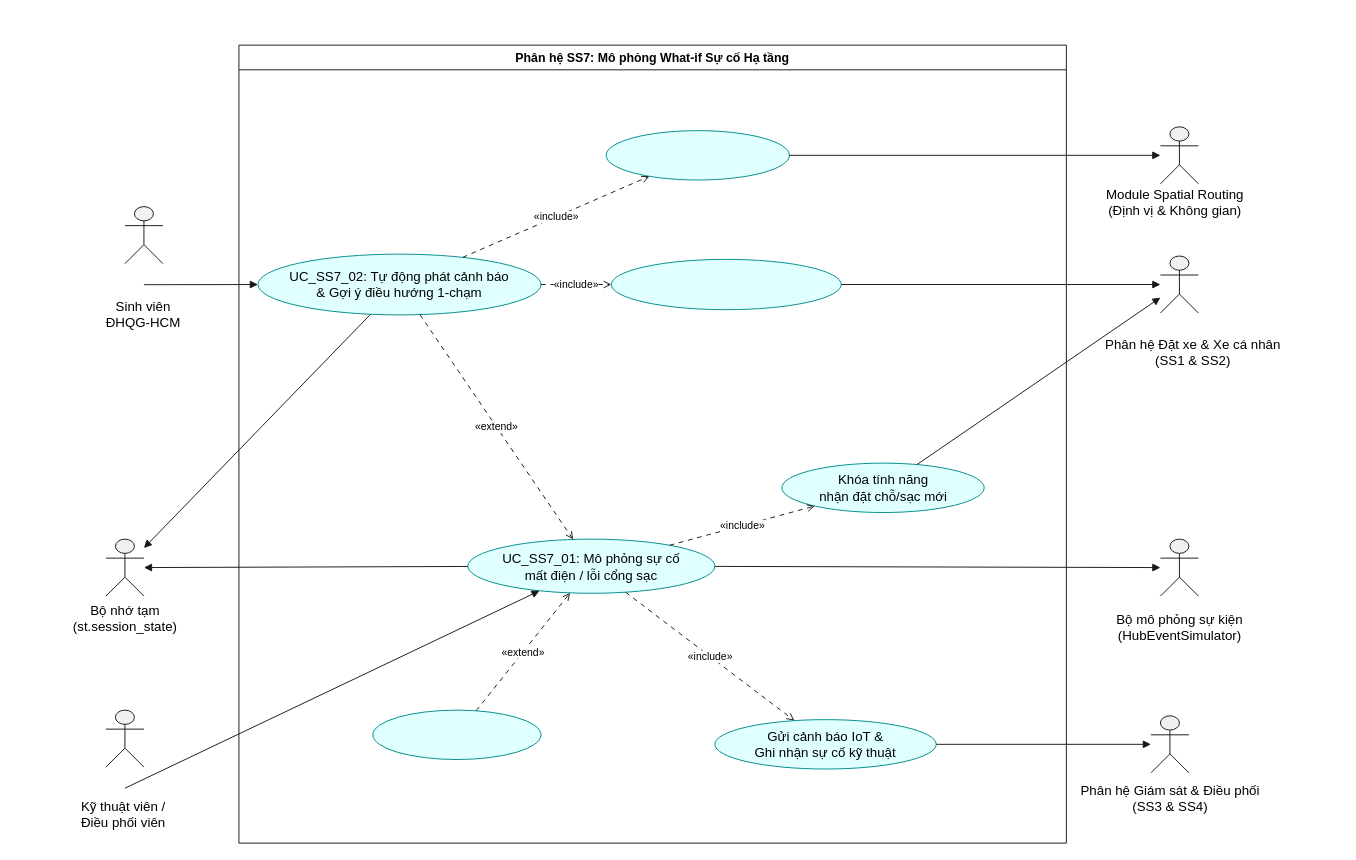
This 1356x860 diagram has some shape labels left out. Here are the shapes that lost their labels. From the top down, the box of each, then its label:
(605, 130, 789, 180): Quét ma trận khoảng cách địa lý
(610, 258, 841, 310): Chuyển lệnh đặt chỗ mới (UC_SS1_01)
(372, 709, 541, 760): Lưu ngoại tuyến (Offline Caching)
